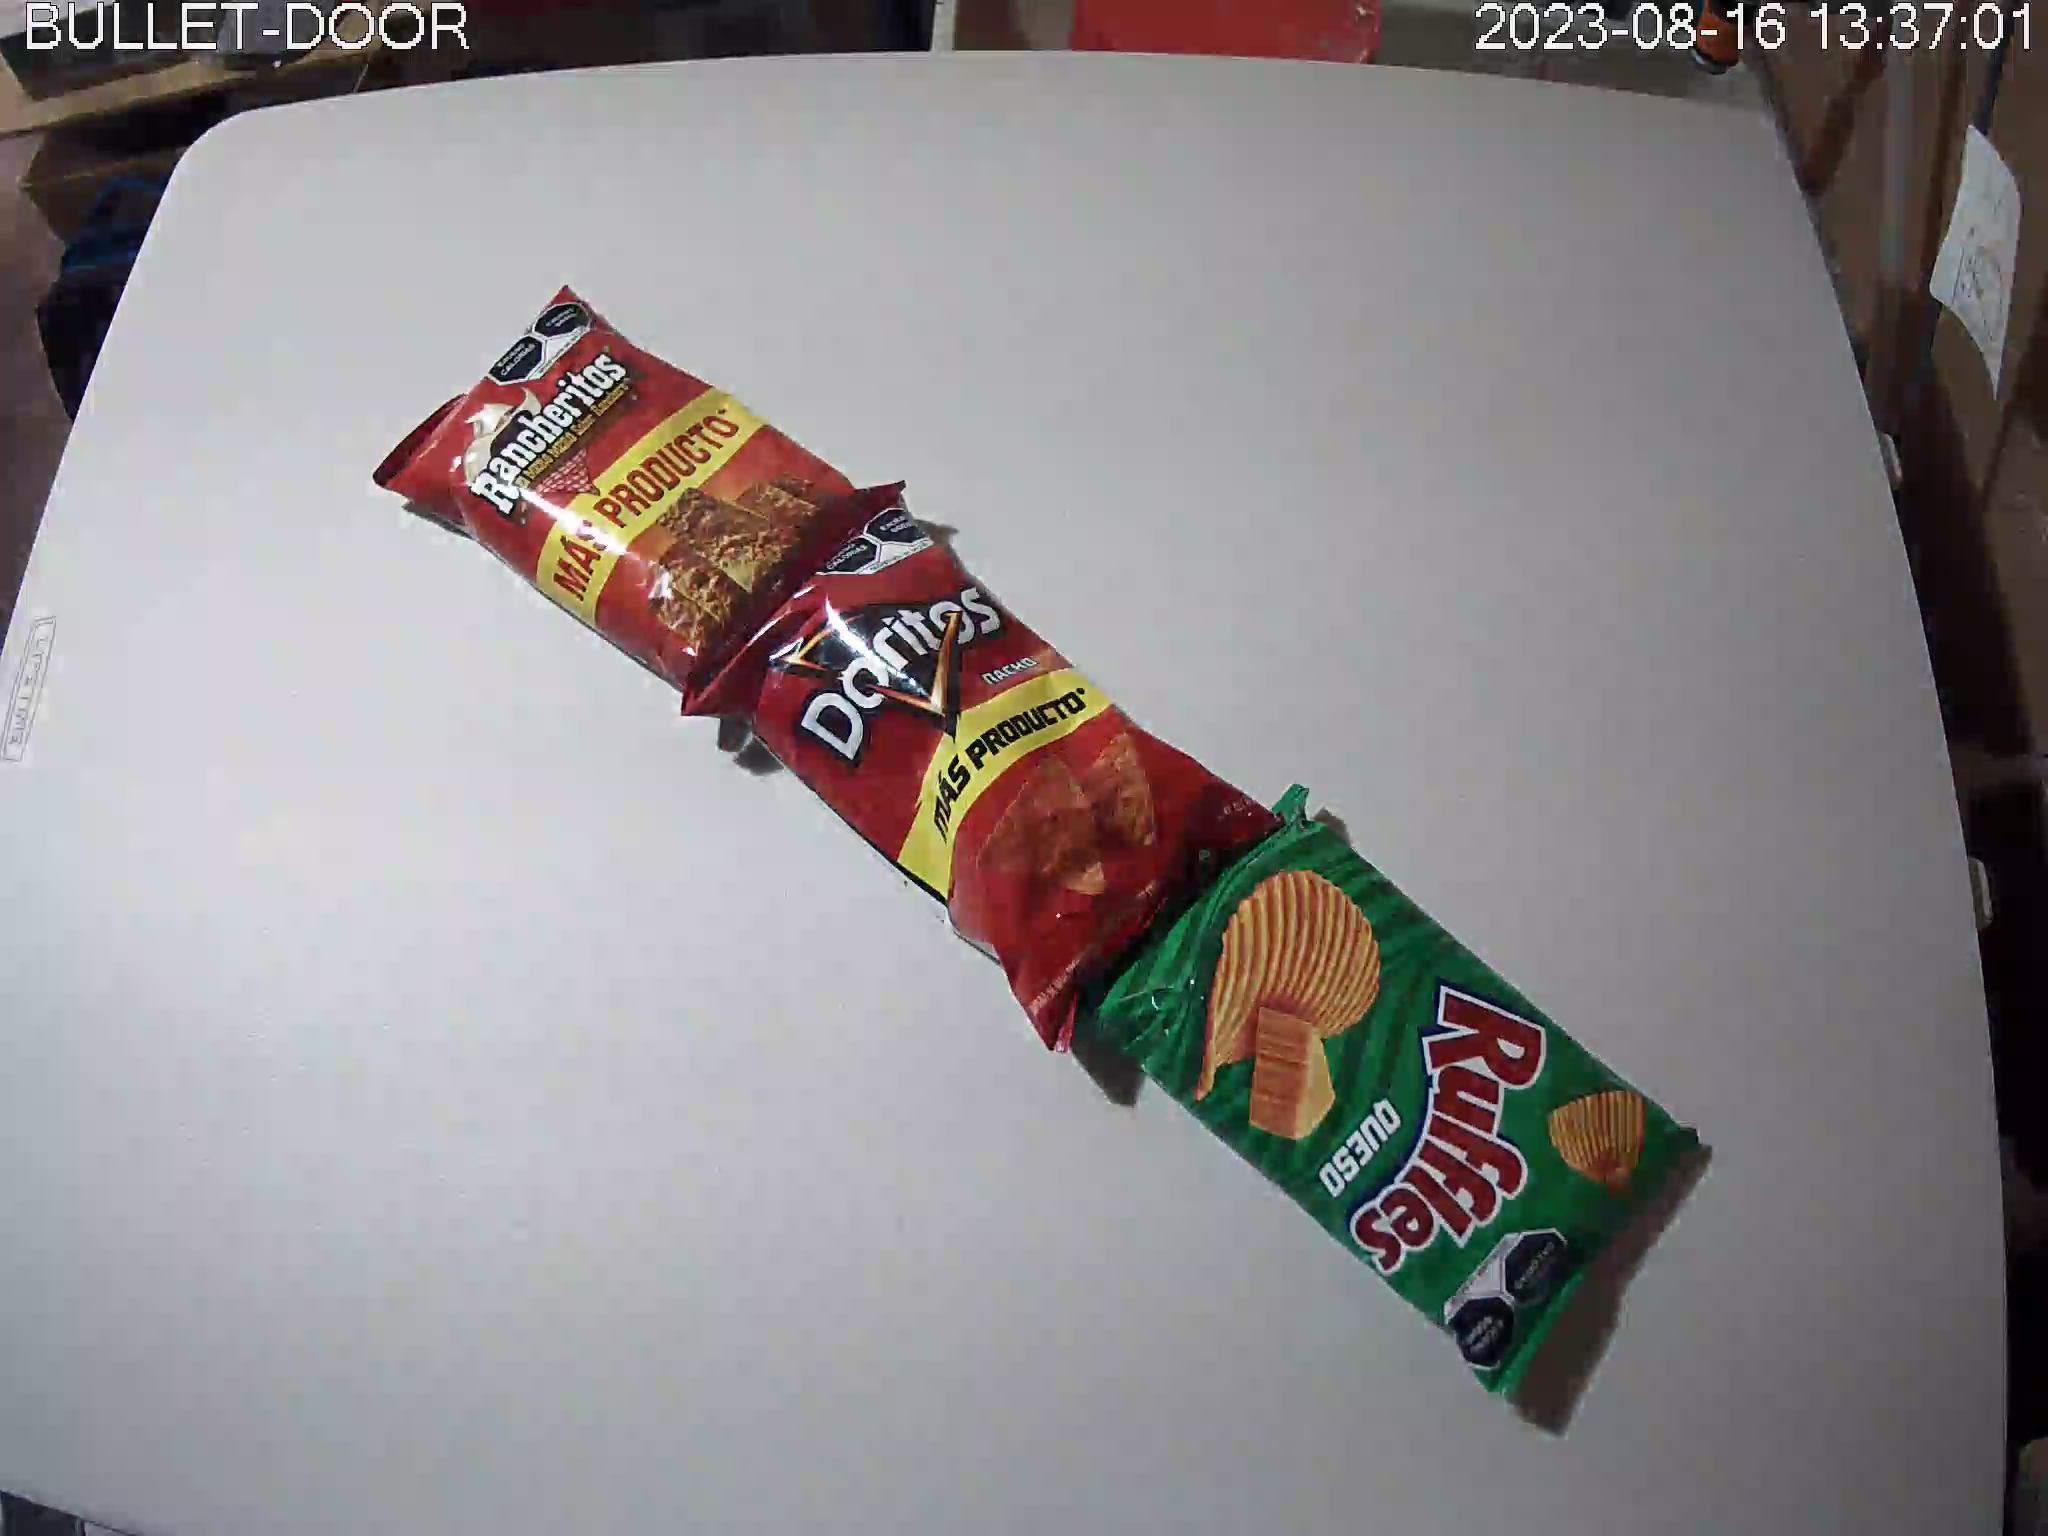DoritosN_61_F: (684, 495, 1288, 1057)
Rancheritos_58_F: (373, 286, 910, 731)
RufflesQ_48_F: (1059, 783, 1701, 1405)
